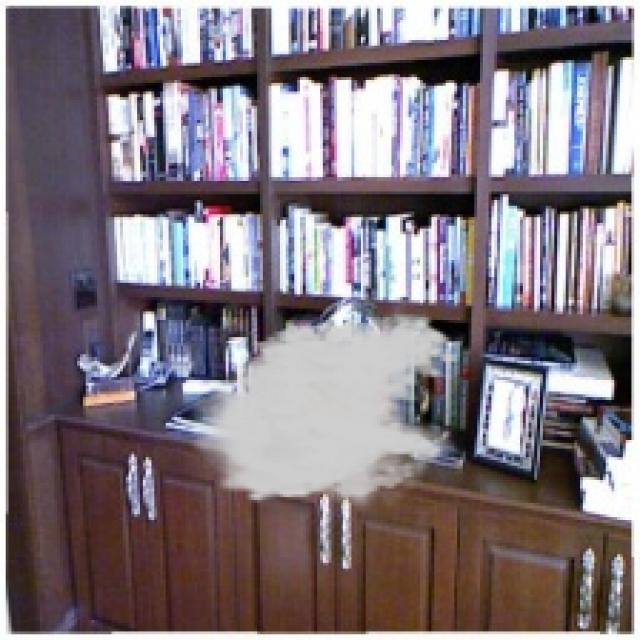smoke: (180, 312, 460, 514)
